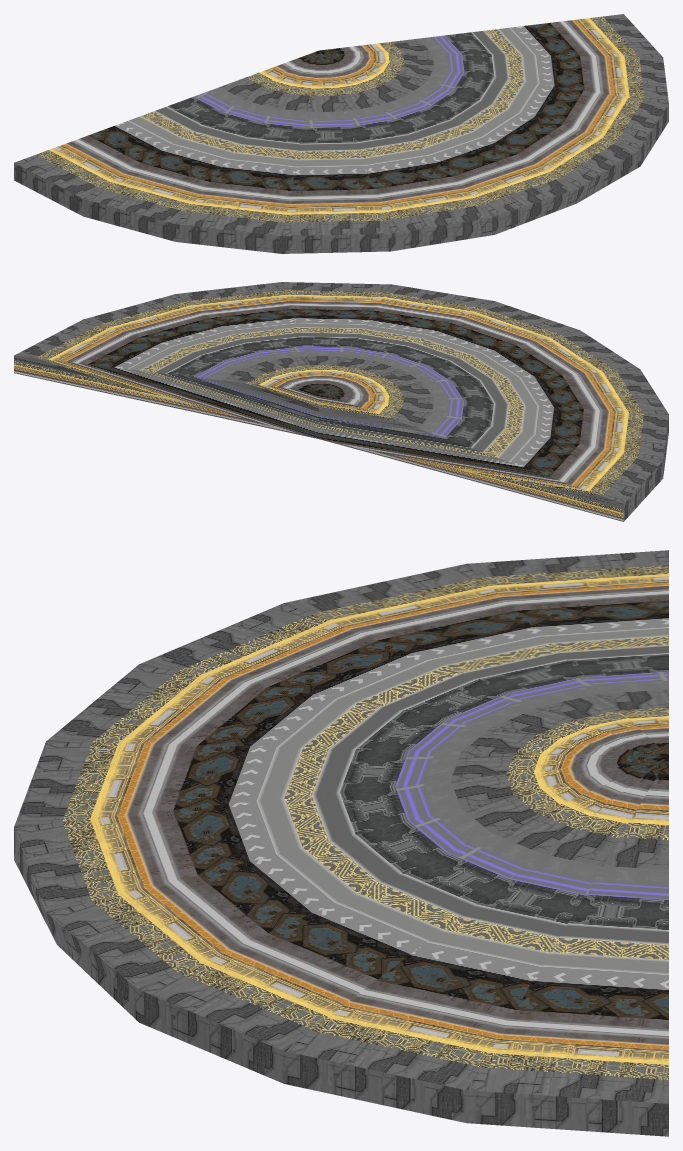
Rendered from floor-platform.glb.
3 views of the same model, one above another, from view 1: azimuth 30°, elevation 25°; view 2: azimuth 150°, elevation 25°; view 3: azimuth 270°, elevation 25° (orthographic). The views are drawn at different scales.
Visible parts, largest first — view 1: Floor_Platform; view 2: Floor_Platform; view 3: Floor_Platform.
Part boxes in pixels (x1,y1,x2,y2): Floor_Platform: (14, 14, 668, 253); Floor_Platform: (14, 282, 668, 521); Floor_Platform: (14, 550, 668, 1136).
Bounding box in the file's own units: 6.46 × 0.5613 × 3.23.
Materials: 1 (1 with a texture image).
